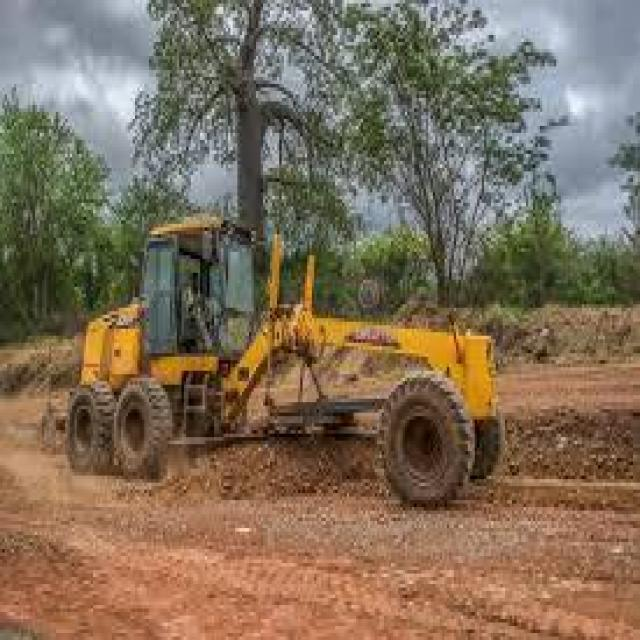Grader: (54, 199, 528, 518)
